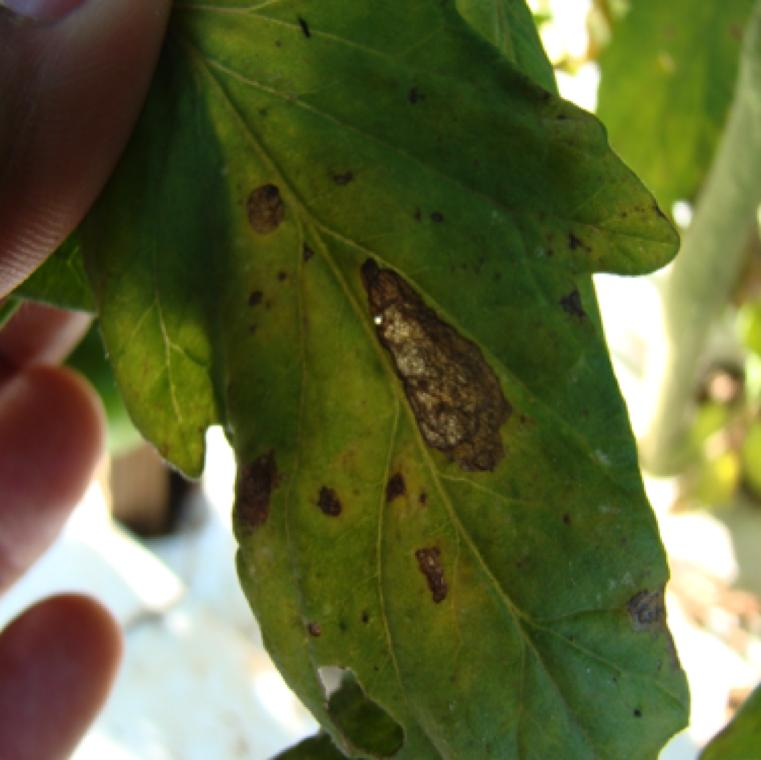leaf_spot: (151, 46, 655, 743)
